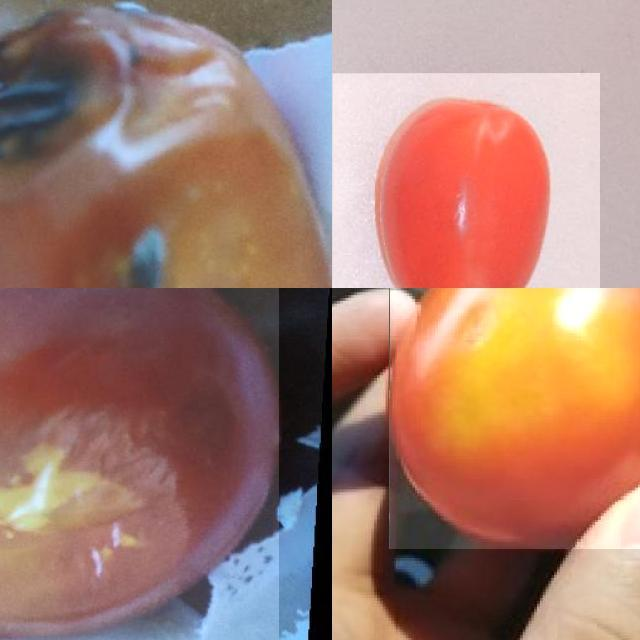Fresh Tomato: (389, 288, 640, 549), (332, 73, 600, 288)
Rotten Tomato: (0, 288, 278, 640), (0, 0, 332, 288)
